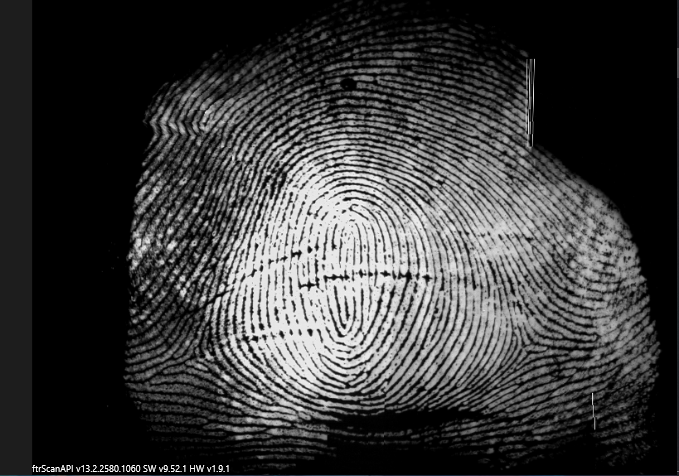nucelo: (330, 218, 370, 266)
verticilo: (504, 323, 552, 367), (174, 334, 222, 368)
